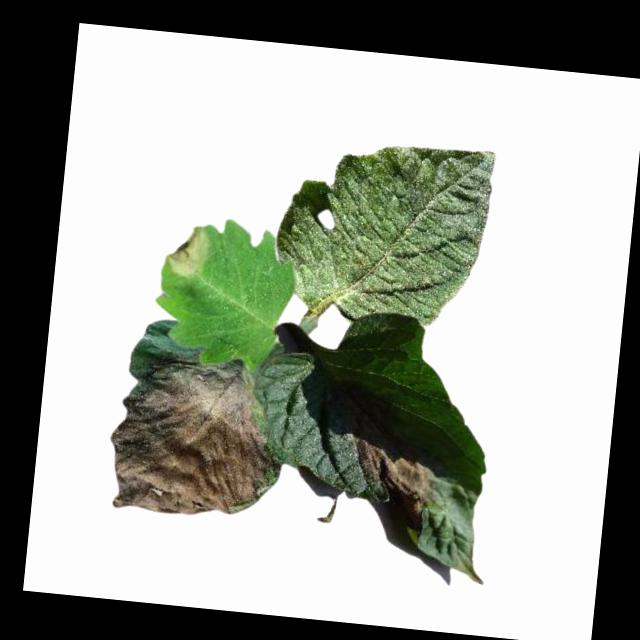Late_blight: (103, 349, 281, 526), (345, 437, 439, 538), (163, 221, 212, 280)
healthy: (271, 132, 497, 322)
